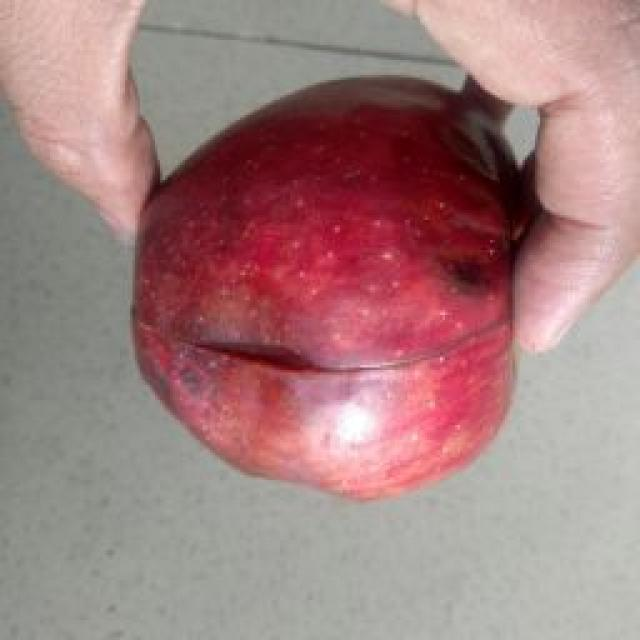Bad_Apple: (134, 76, 529, 498)
